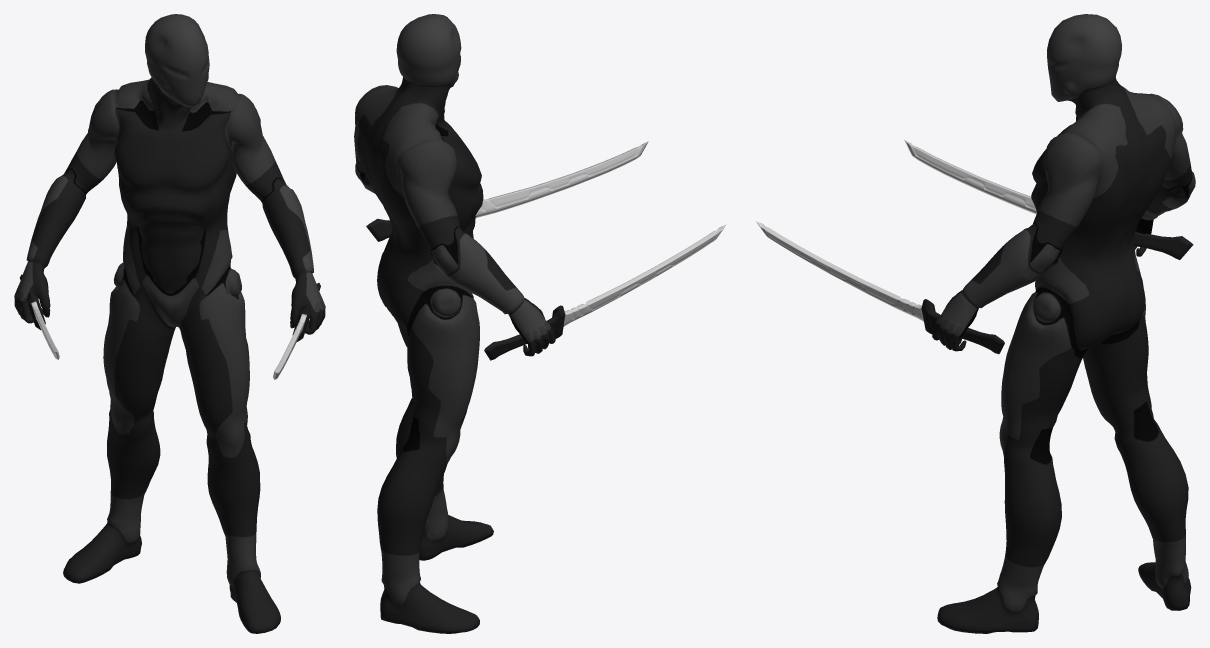
3 views of the same model, side by side, from view 1: azimuth 30°, elevation 25°; view 2: azimuth 150°, elevation 25°; view 3: azimuth 270°, elevation 25° (orthographic). The views are drawn at different scales.
Parts seen in each view (by area): view 1: Cyborg_Ninja_Killer, Sword_l, Sword_l001; view 2: Cyborg_Ninja_Killer, Sword_l001, Sword_l; view 3: Cyborg_Ninja_Killer, Sword_l, Sword_l001.
Part boxes in pixels (bbox=[...]): Cyborg_Ninja_Killer: bbox=[14, 14, 325, 633]; Sword_l: bbox=[273, 283, 320, 379]; Sword_l001: bbox=[20, 274, 59, 359]; Cyborg_Ninja_Killer: bbox=[354, 14, 555, 633]; Sword_l001: bbox=[484, 224, 726, 360]; Sword_l: bbox=[366, 141, 648, 241]; Cyborg_Ninja_Killer: bbox=[932, 14, 1195, 633]; Sword_l: bbox=[755, 221, 1004, 354]; Sword_l001: bbox=[904, 139, 1193, 259].
Size of the model in its own units: 105 by 182 by 123.
Materials: 2 (2 with a texture image).
